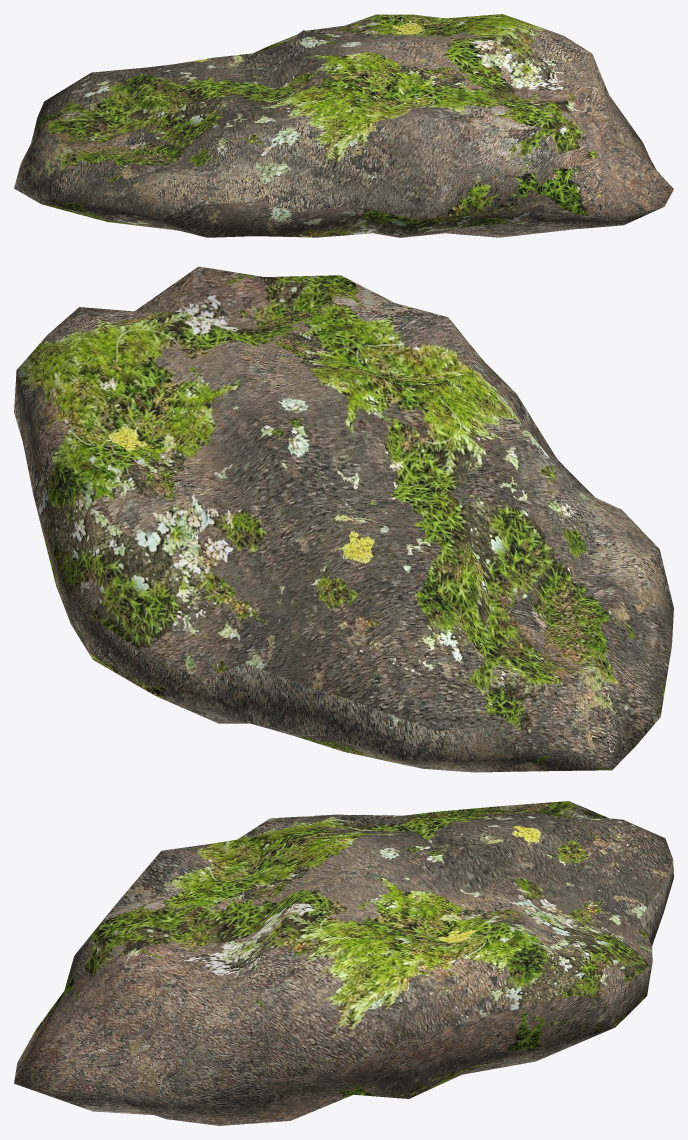
File: rock1.glb
3 renders of one model, top to bottom at view 1: azimuth 30°, elevation 25°; view 2: azimuth 150°, elevation 25°; view 3: azimuth 270°, elevation 25°, orthographic. The views are drawn at different scales.
Parts seen in each view (by area): view 1: rock1; view 2: rock1; view 3: rock1.
Boxes of the visible parts, bbox=[...] form: rock1: bbox=[14, 14, 673, 237]; rock1: bbox=[14, 266, 673, 772]; rock1: bbox=[14, 801, 673, 1125].
Size of the model in its own units: 2.7 by 0.8464 by 2.49.
1 material, 1 textured.
